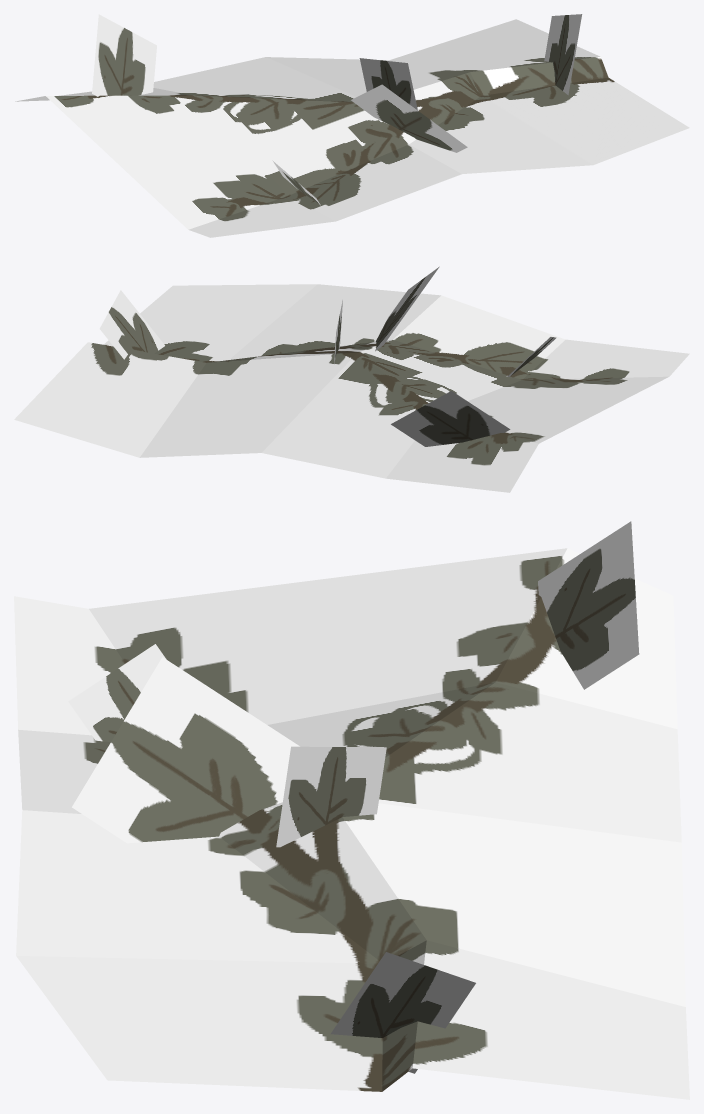
File: Vine4.fbx
3 renders of one model, top to bottom at view 1: azimuth 30°, elevation 25°; view 2: azimuth 150°, elevation 25°; view 3: azimuth 270°, elevation 25°, orthographic. The views are drawn at different scales.
Parts seen in each view (by area): view 1: Vines.025; view 2: Vines.025; view 3: Vines.025.
Part boxes in pixels (x1,y1,x2,y2): Vines.025: (15,14,689,237); Vines.025: (14,266,689,492); Vines.025: (14,521,689,1099).
Size of the model in its own units: 352 by 90.2 by 233.
Materials: 1 (1 with a texture image).
